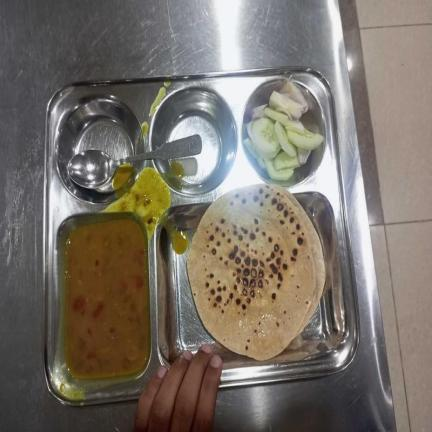Chana Dal: (64, 217, 149, 379)
Plate: (43, 64, 361, 407)
Roti: (187, 184, 327, 363)
Salad: (243, 81, 322, 180)
